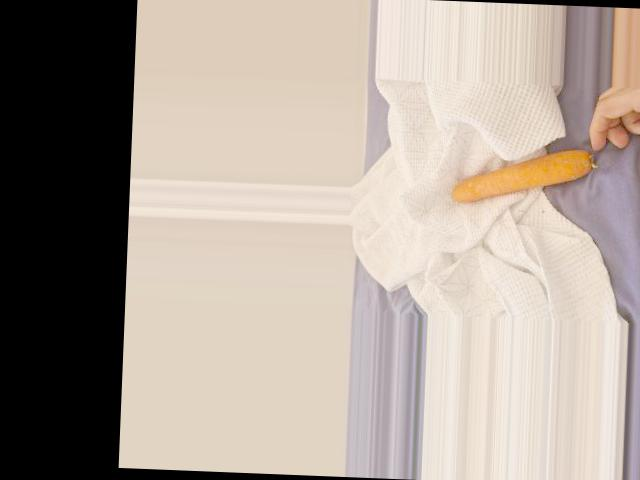carrot: (451, 146, 595, 207)
